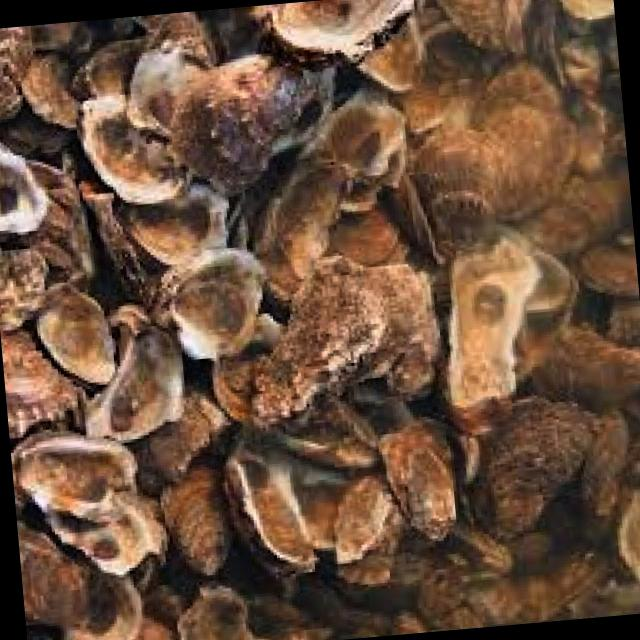Oyster-Closed: (170, 54, 318, 193), (252, 274, 386, 421), (318, 255, 440, 397), (472, 398, 594, 538), (465, 91, 574, 217), (0, 144, 95, 288), (254, 164, 344, 302), (81, 181, 168, 309), (495, 548, 640, 621), (46, 491, 166, 576), (520, 170, 632, 259), (379, 421, 456, 541), (1, 331, 85, 439), (532, 328, 640, 412), (318, 91, 406, 186), (19, 522, 89, 639), (335, 476, 405, 586), (161, 466, 230, 576), (148, 392, 230, 479), (411, 174, 498, 253), (574, 235, 639, 333), (60, 564, 142, 639), (382, 175, 446, 264), (409, 114, 478, 191), (582, 412, 629, 517), (439, 0, 529, 53), (72, 38, 145, 100), (330, 209, 408, 266), (135, 12, 216, 66), (359, 21, 419, 92), (21, 54, 78, 128), (0, 249, 49, 331), (178, 586, 252, 640), (485, 61, 561, 111), (0, 28, 32, 121), (455, 528, 514, 574), (559, 0, 614, 19)
Oyster-Open: (446, 239, 540, 433), (225, 442, 316, 572), (80, 95, 188, 204), (158, 250, 264, 359), (86, 326, 184, 442), (12, 432, 136, 517), (255, 0, 414, 62), (120, 185, 229, 265), (36, 284, 115, 384), (0, 144, 49, 233)
